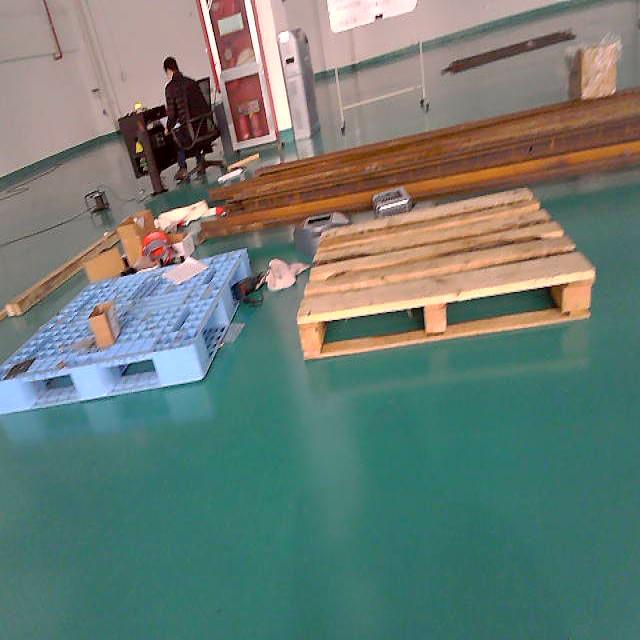euro: (299, 186, 598, 359)
